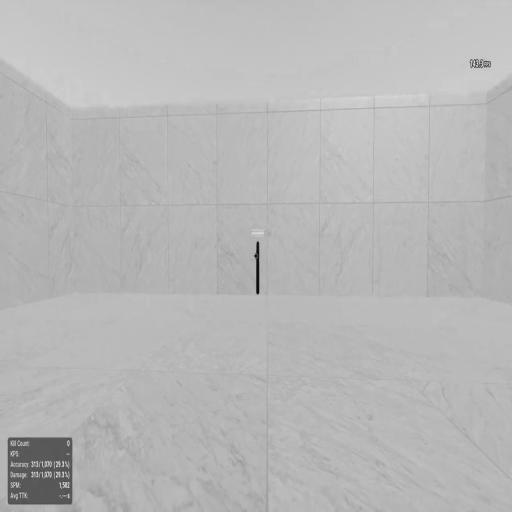Crosshair: (254, 252, 258, 260)
Target: (256, 241, 260, 294)
